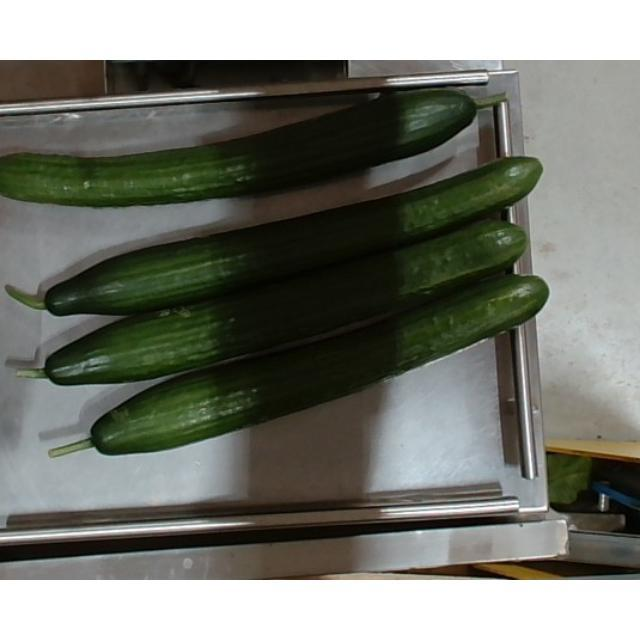cucumber: (74, 263, 552, 457), (39, 202, 538, 384), (16, 173, 524, 325), (4, 90, 488, 216)
